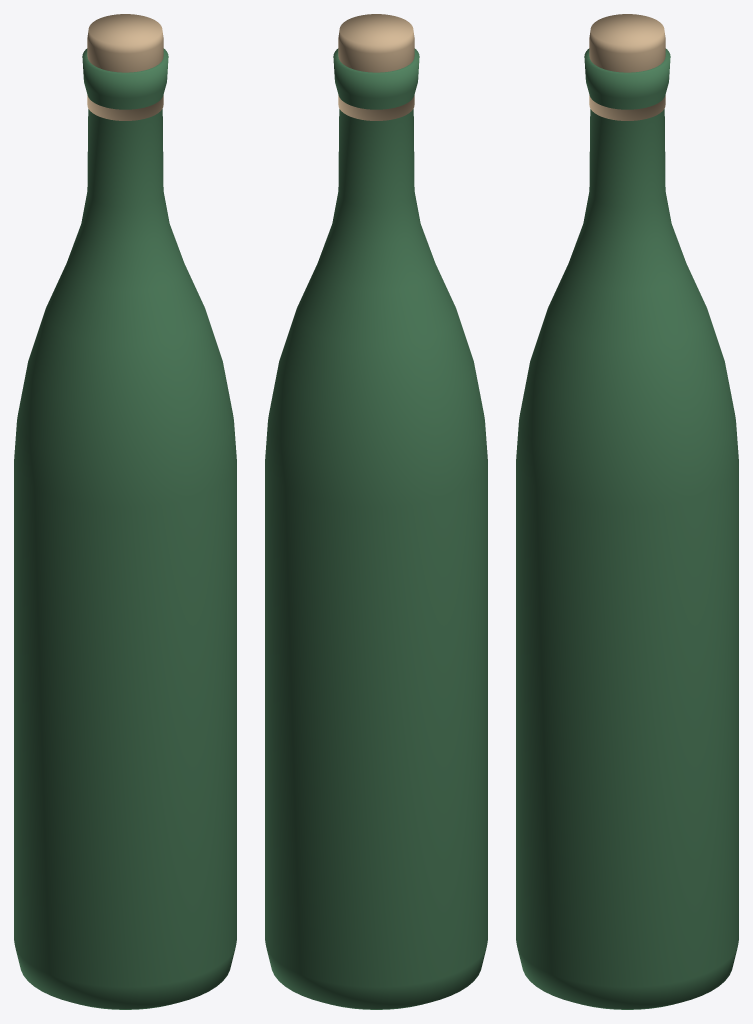
Rendered from wine_bare_low.glb.
3 views of the same model, side by side, from view 1: azimuth 30°, elevation 25°; view 2: azimuth 150°, elevation 25°; view 3: azimuth 270°, elevation 25° (orthographic).
Parts seen in each view (by area): view 1: Glass, Cap; view 2: Glass, Cap; view 3: Glass, Cap.
Boxes of the visible parts, bbox=[...] form: Glass: bbox=[14, 48, 236, 1009]; Cap: bbox=[87, 14, 163, 120]; Glass: bbox=[265, 48, 487, 1009]; Cap: bbox=[338, 14, 414, 120]; Glass: bbox=[516, 48, 738, 1009]; Cap: bbox=[589, 14, 665, 120].
Size of the model in its own units: 0.075 by 0.35 by 0.075.
